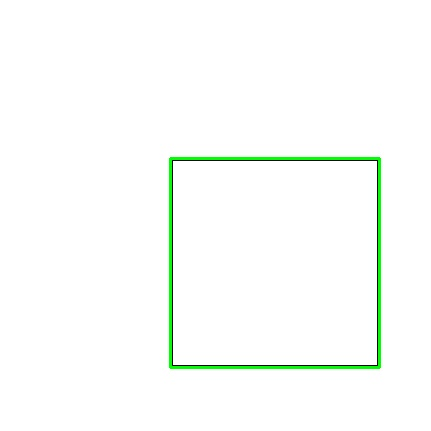line_segment: (169, 157, 381, 369)
